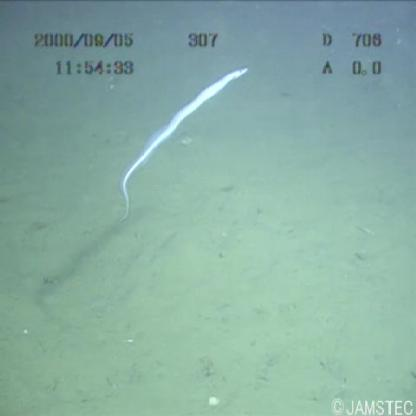Bio: (112, 60, 254, 230)
